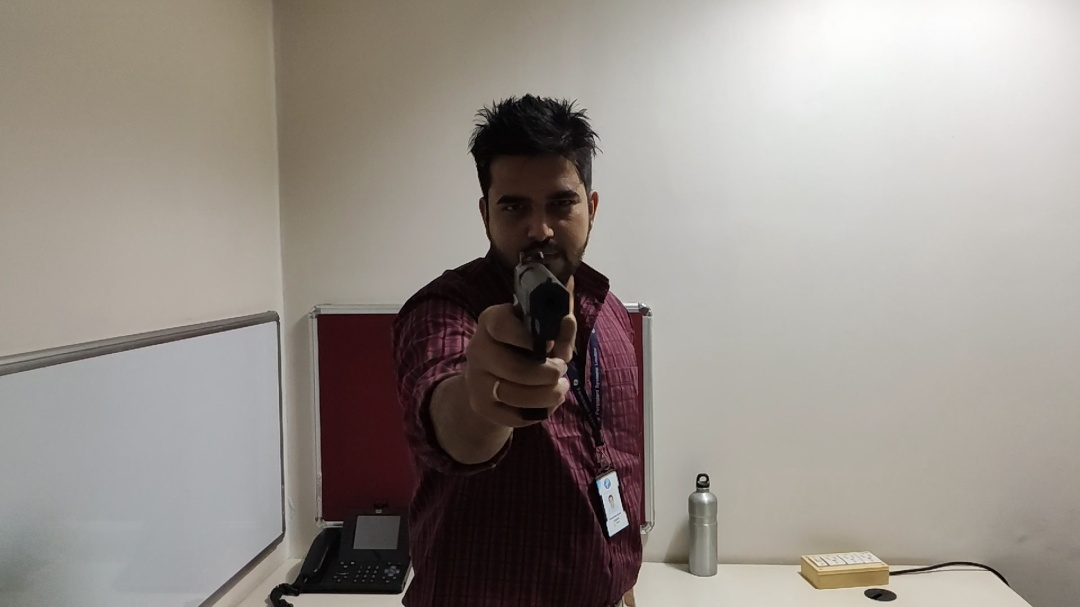gun: (487, 245, 589, 430)
